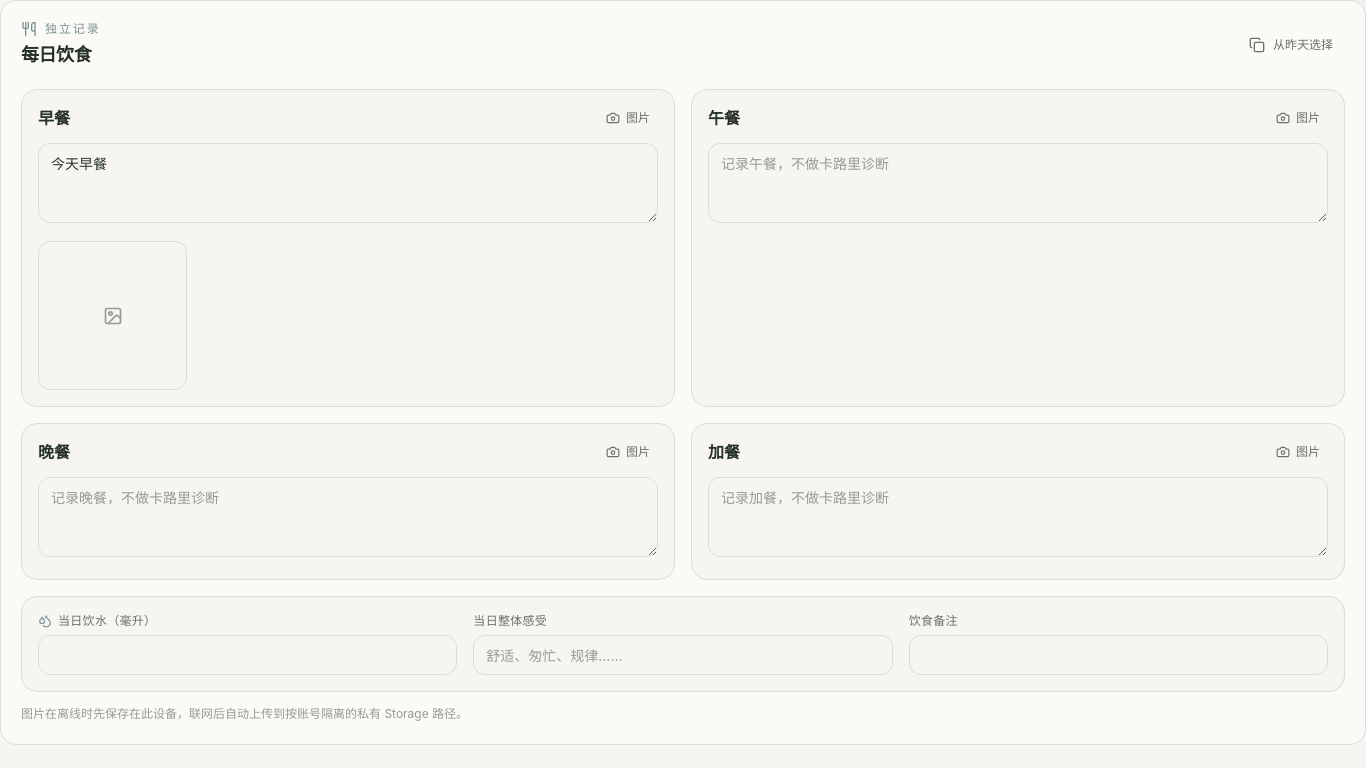
Test: carry yesterday records › disables meals with today content and carries only an empty meal
Later steps or results of the test are not shown.
Click the button with test id "carry-yesterday-meal" at (1291, 45), box [1237,29,1345,61]
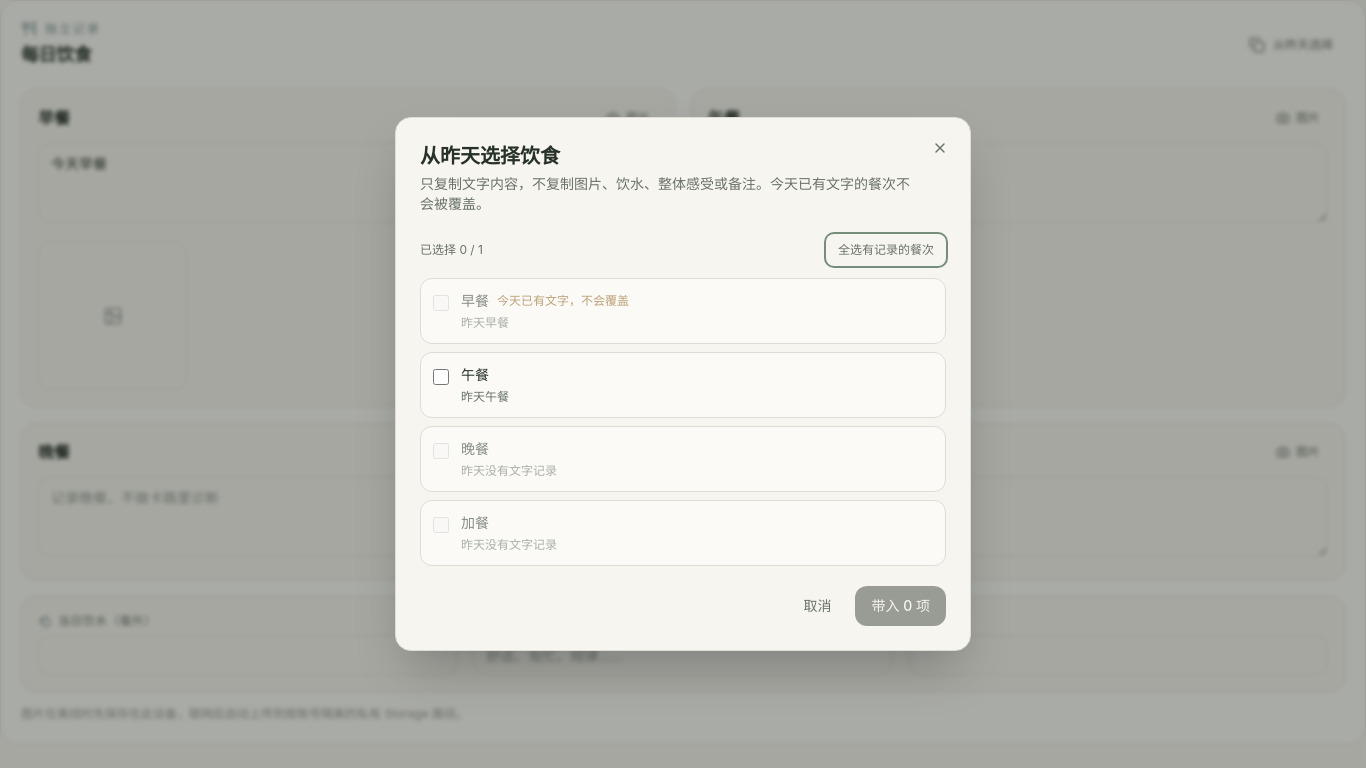
Expected: the checkbox named "选择昨天的早餐" is disabled, [433,295,449,311]
Result: the text "今天已有文字，不会覆盖" is shown at [497,293,629,309]
Click the checkbox named "选择昨天的午餐" at (441, 377), box [433,369,449,385]
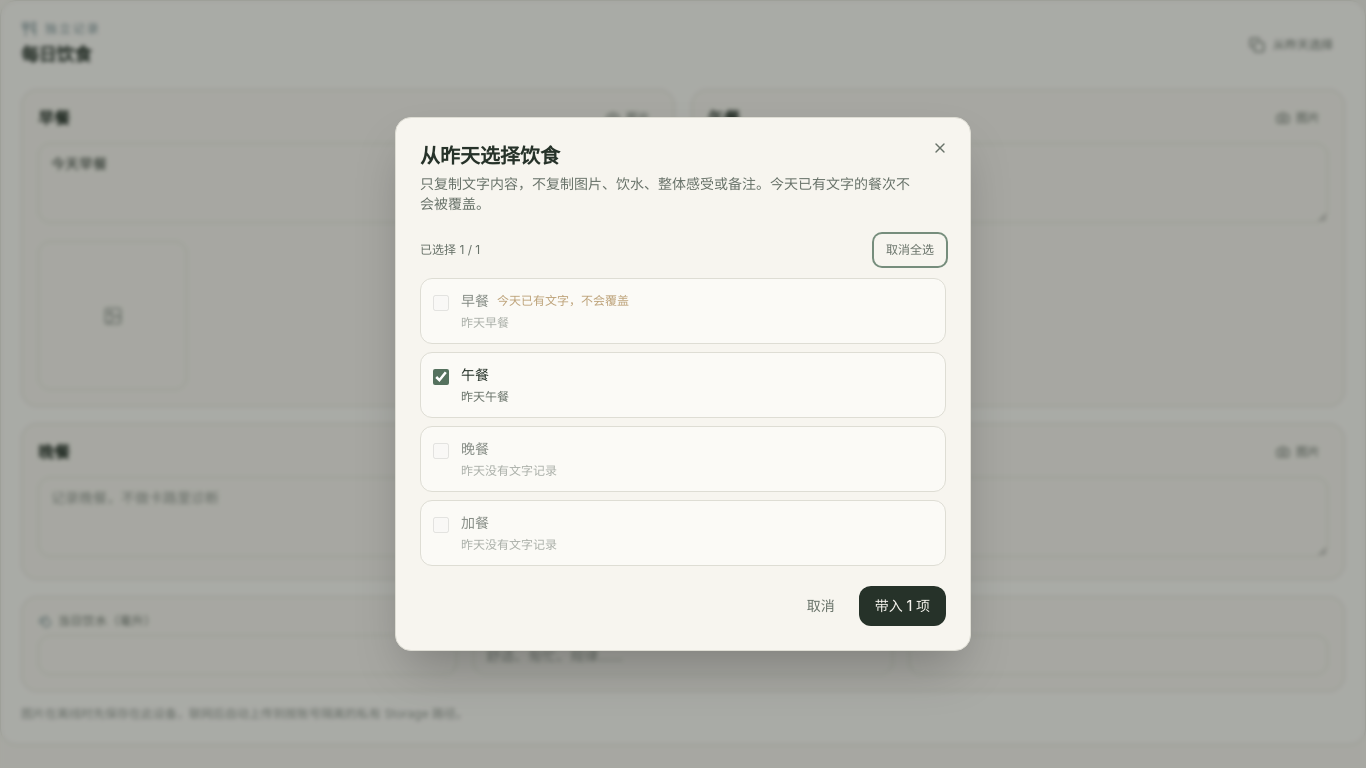
Result: the button with test id "confirm-carry-meals" is enabled at [859,586,946,626]
